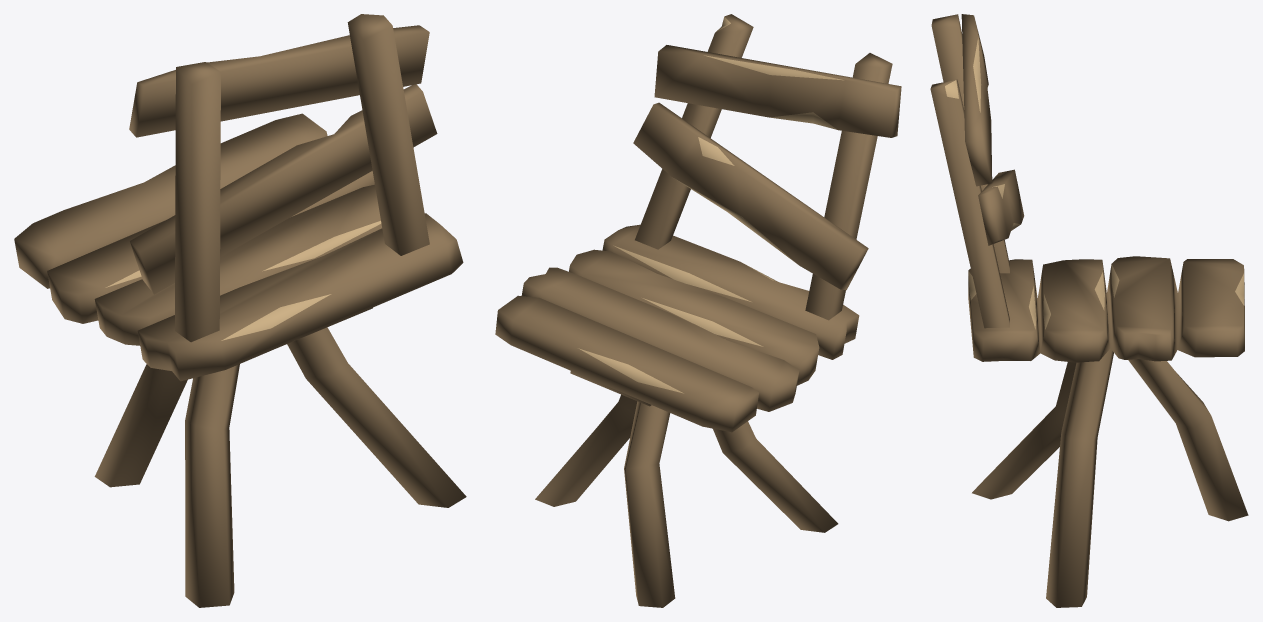
The model's file is rpgpp_av_chair_02a.gltf.
3 views of the same model, side by side, from view 1: azimuth 30°, elevation 25°; view 2: azimuth 150°, elevation 25°; view 3: azimuth 270°, elevation 25° (orthographic). The views are drawn at different scales.
Parts seen in each view (by area): view 1: rpgpp_av_chair_02a; view 2: rpgpp_av_chair_02a; view 3: rpgpp_av_chair_02a.
Part boxes in pixels (left/top/right/bottom): rpgpp_av_chair_02a: left=14, top=14, right=466, bottom=607; rpgpp_av_chair_02a: left=495, top=14, right=901, bottom=607; rpgpp_av_chair_02a: left=930, top=14, right=1248, bottom=607.
Size of the model in its own units: 0.00534 by 0.00762 by 0.00474.
Materials: 1 (1 with a texture image).
